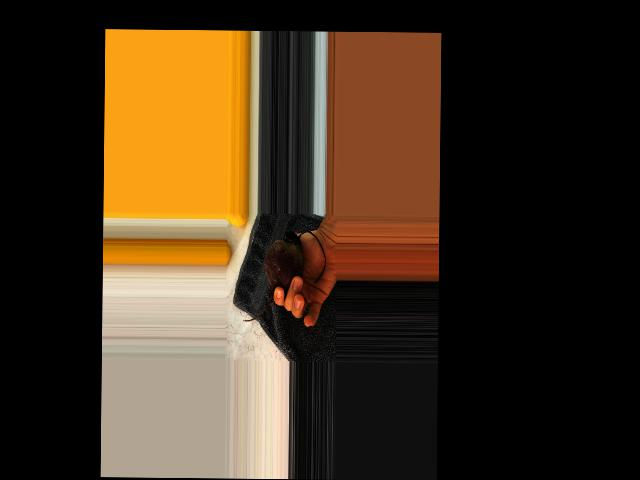beet: (243, 231, 326, 322)
